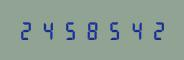eight: (80, 20, 100, 40)
five: (59, 20, 79, 40), (101, 20, 121, 40)
four: (38, 20, 58, 40), (122, 20, 142, 40)
two: (17, 20, 37, 40), (143, 20, 163, 40)
